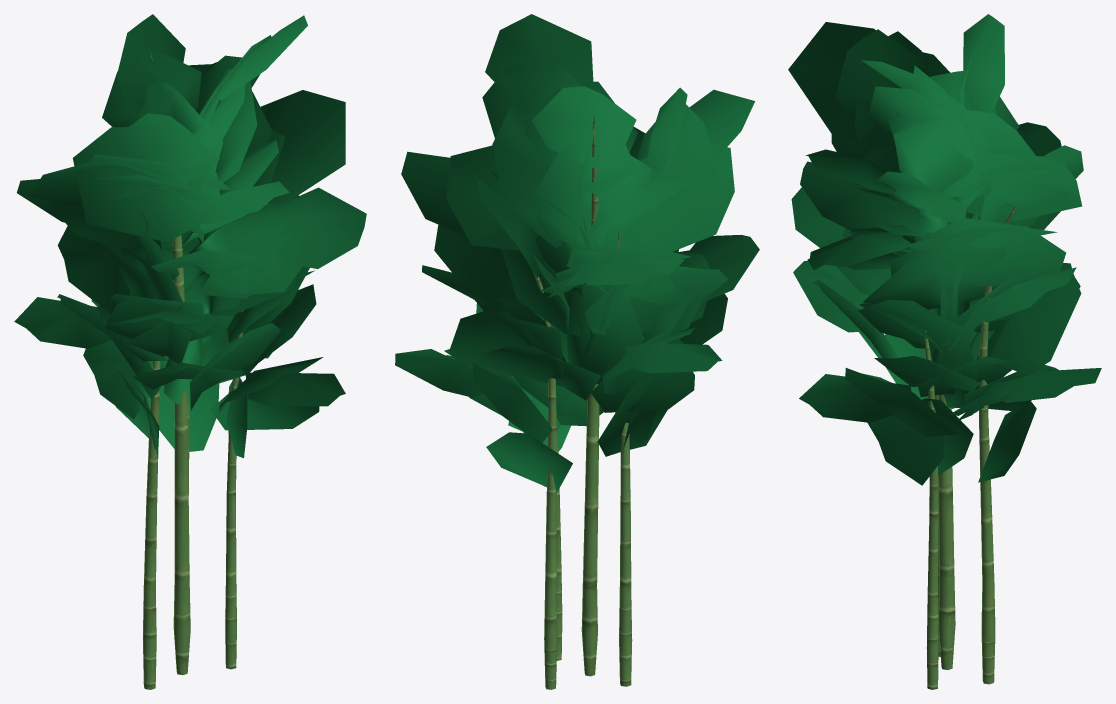
Rendered from SM_BambooSaplingClump3.fbx.
3 views of the same model, side by side, from view 1: azimuth 30°, elevation 25°; view 2: azimuth 150°, elevation 25°; view 3: azimuth 270°, elevation 25° (orthographic). The views are drawn at different scales.
Parts seen in each view (by area): view 1: SM_BambooSaplingClump3_LOD0; view 2: SM_BambooSaplingClump3_LOD0; view 3: SM_BambooSaplingClump3_LOD0.
Boxes of the visible parts, x1=… form: SM_BambooSaplingClump3_LOD0: x1=14, y1=14, x2=366, y2=689; SM_BambooSaplingClump3_LOD0: x1=395, y1=14, x2=759, y2=689; SM_BambooSaplingClump3_LOD0: x1=788, y1=14, x2=1101, y2=689.
Size of what is drawn, in the model's own units: 6.58 by 5.49 by 12.66.
